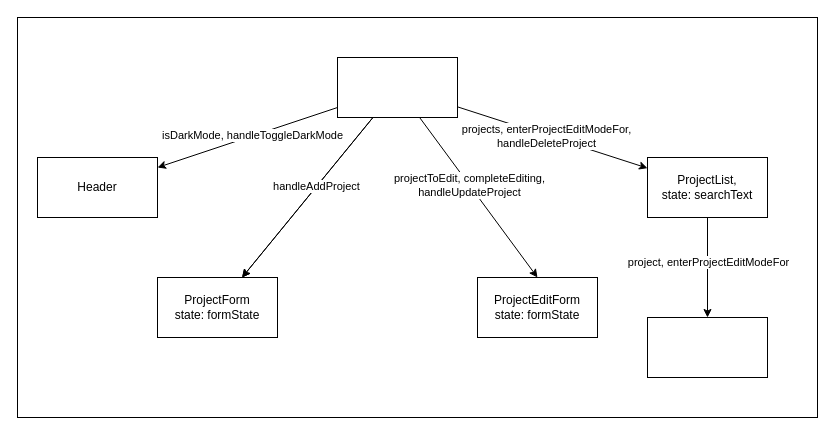
The diagram is 835 pixels wide and 435 high, and some of its shapes have lost their labels. The shapes that lost their labels are listed below. From the top down, each one's centre as x and y in pixels, then its label:
[397,87]: App state: projectToEdit, isDarkMode, projects
[707,347]: ProjectListItem, state: claps
